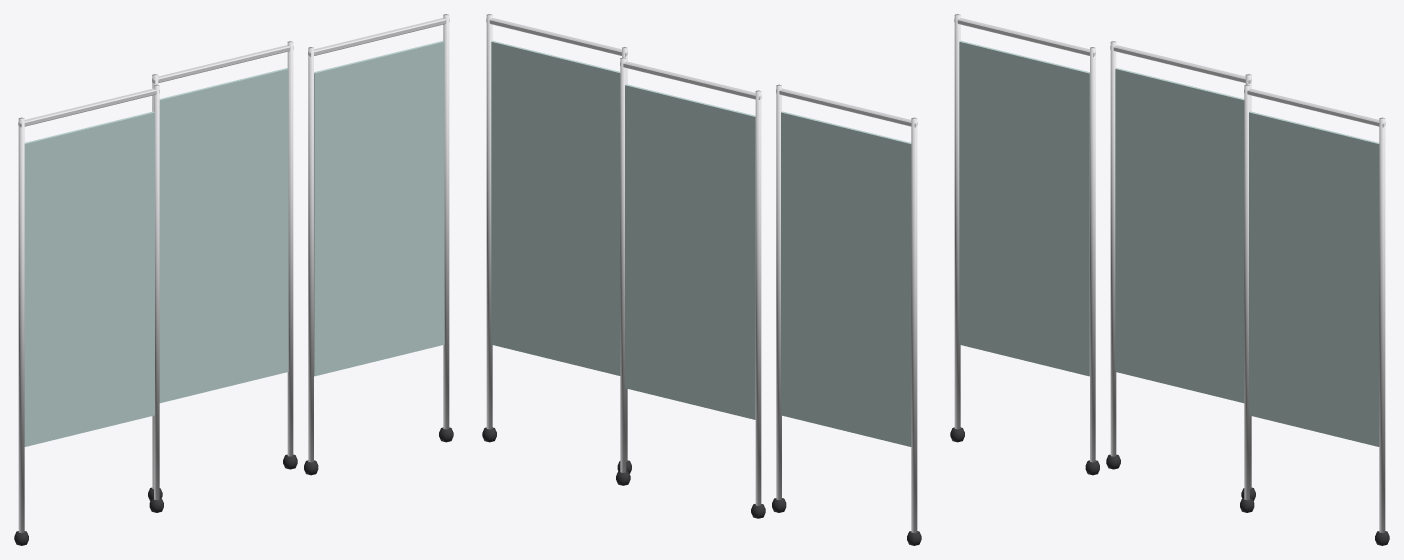
File: privacy_screen.glb
The picture shows the model from 3 angles, left to right: view 1: azimuth 30°, elevation 25°; view 2: azimuth 150°, elevation 25°; view 3: azimuth 330°, elevation 25°; orthographic projection.
Parts seen in each view (by area): view 1: privacy_screen; view 2: privacy_screen; view 3: privacy_screen.
Part boxes in pixels (bbox=[...]): privacy_screen: bbox=[14, 14, 453, 545]; privacy_screen: bbox=[482, 14, 921, 545]; privacy_screen: bbox=[950, 14, 1389, 545].
Bounding box in the file's own units: 1.82 × 1.69 × 0.1321.
